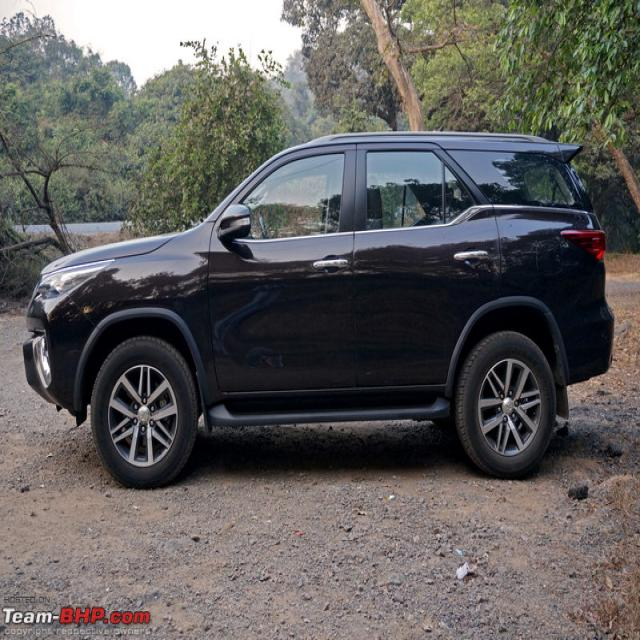light_vehicle: (23, 130, 615, 490)
